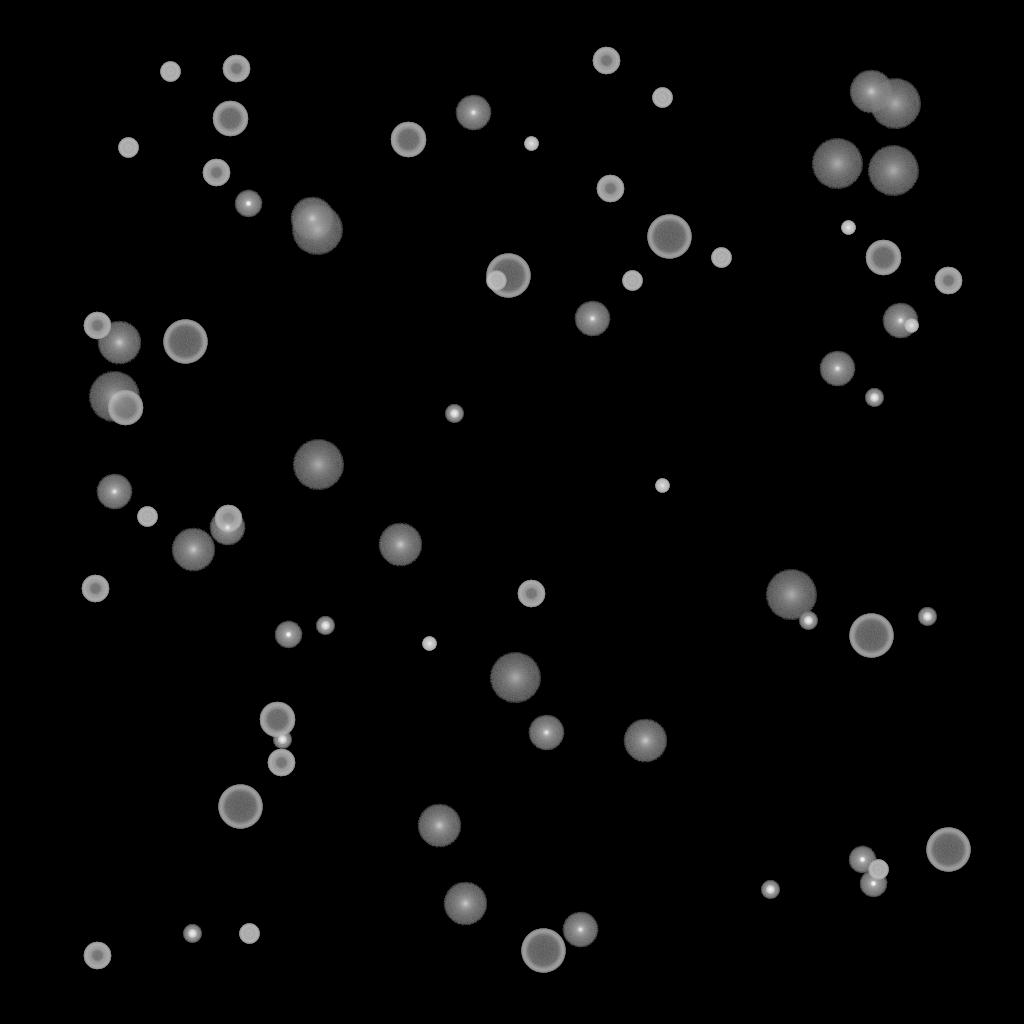depth:-10: (234, 190, 262, 218), (274, 621, 302, 649), (859, 870, 887, 898), (848, 846, 876, 874)
depth:-20: (316, 617, 334, 635), (865, 389, 883, 407), (183, 925, 201, 943), (761, 881, 779, 899), (799, 612, 817, 630), (445, 405, 463, 423), (273, 731, 291, 749), (918, 608, 936, 626)
depth:-30: (655, 479, 669, 493), (524, 137, 538, 151), (841, 221, 855, 235), (422, 637, 436, 651), (904, 319, 918, 333)
depth:-40: (486, 271, 506, 291), (711, 248, 731, 268), (868, 860, 888, 880), (622, 271, 642, 291), (160, 62, 180, 82), (652, 88, 672, 108), (239, 924, 259, 944), (118, 138, 138, 158), (137, 507, 157, 527)
depth:-50: (222, 55, 250, 83), (592, 47, 620, 75), (267, 749, 295, 777), (934, 267, 962, 295), (81, 575, 109, 603), (517, 580, 545, 608), (596, 175, 624, 203), (83, 312, 111, 340), (202, 159, 230, 187), (83, 942, 111, 970), (214, 505, 242, 533)
depth:-60: (390, 122, 426, 158), (259, 702, 295, 738), (865, 240, 901, 276), (212, 101, 248, 137), (107, 390, 143, 426)
depth:-70: (218, 785, 262, 829), (521, 929, 565, 973), (163, 320, 207, 364), (647, 215, 691, 259), (486, 254, 530, 298), (849, 614, 893, 658), (926, 828, 970, 872)
depth:0: (455, 95, 491, 131), (562, 912, 598, 948), (209, 510, 245, 546), (574, 301, 610, 337), (882, 303, 918, 339), (819, 351, 855, 387), (96, 474, 132, 510), (528, 715, 564, 751)
depth:10: (443, 882, 487, 926), (378, 523, 422, 567), (417, 804, 461, 848), (171, 528, 215, 572), (849, 70, 893, 114), (290, 197, 334, 241), (623, 719, 667, 763), (97, 321, 141, 365)
depth:20: (88, 372, 140, 422), (489, 653, 541, 703), (291, 205, 343, 255), (867, 146, 919, 196), (765, 570, 817, 620), (869, 79, 921, 129), (811, 139, 863, 189), (292, 440, 344, 490)
